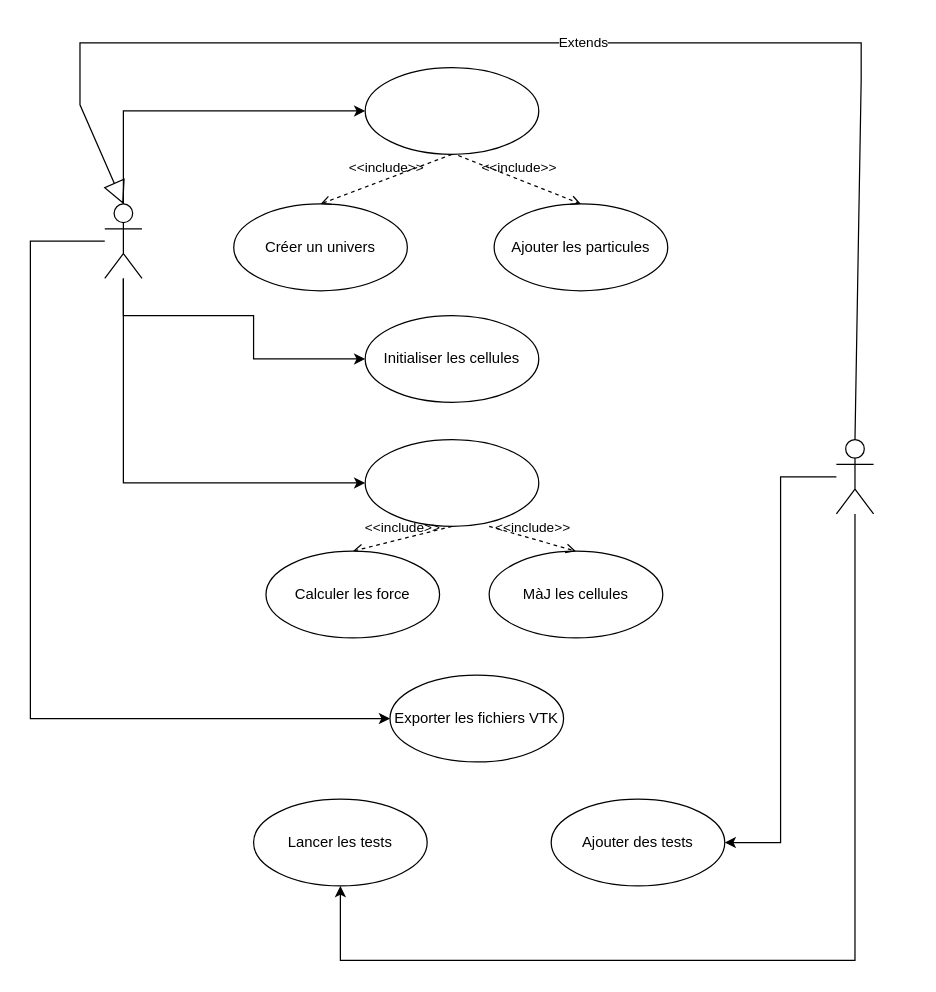
Image size: 936x992. Some labels were removed from this diagram. The centre of each missing label's shape, as x and y in pixels:
"Configurer une simulation" belongs at point (451, 110).
"Lancer la simulation" belongs at point (451, 482).
"Utilisateur-Developpeur" belongs at point (123, 240).
"Utilisateur-Testeur" belongs at point (854, 476).
